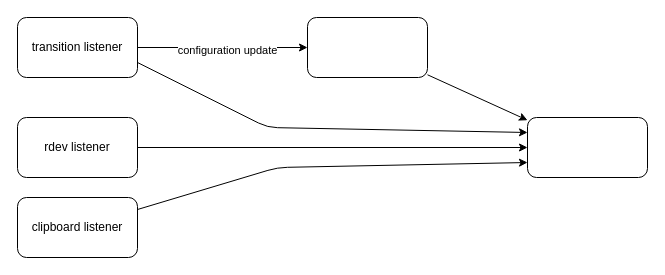
Image size: 665x275. Some labels were removed from this diagram. The shapes that lost their labels are listed below. From the top down, each one's box as (x1, y1, x2, y2) in pixels, then its label:
(306, 16, 428, 78): Druid UI
(526, 116, 648, 178): handler
